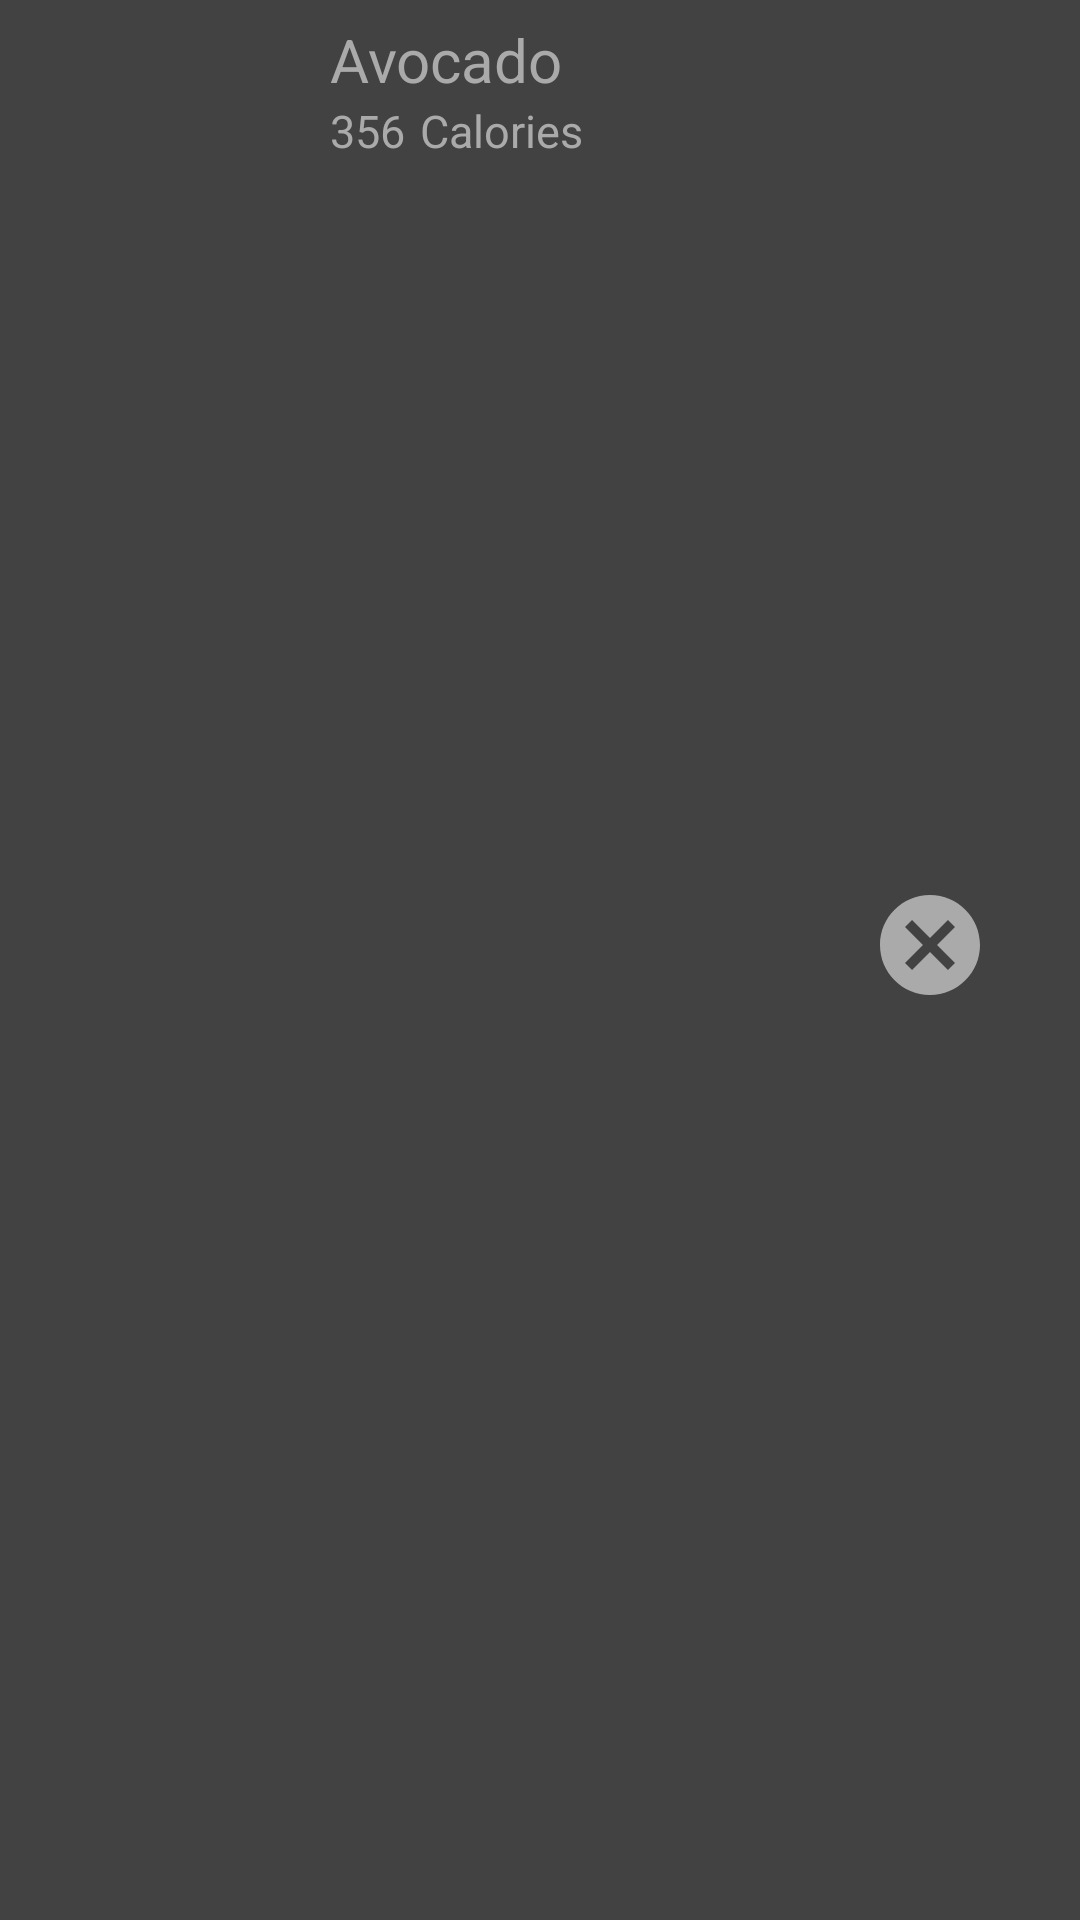

Icon bounding boxes for this 1080 x 1920 phone screenshot, format detection(x1, y1, x2, y2):
cancel: detection(880, 895, 980, 995)
